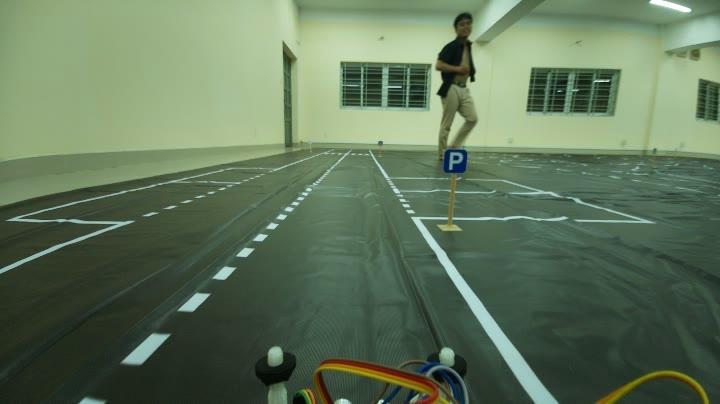parking: (440, 143, 467, 176)
